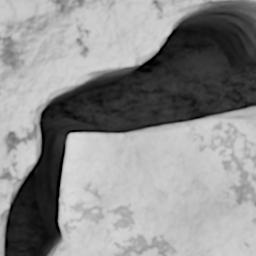brick: (60, 120, 255, 255)
crack: (0, 0, 255, 255)
